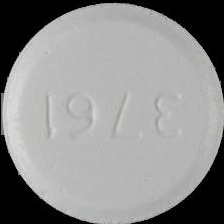0615-5540: (0, 0, 224, 224)
